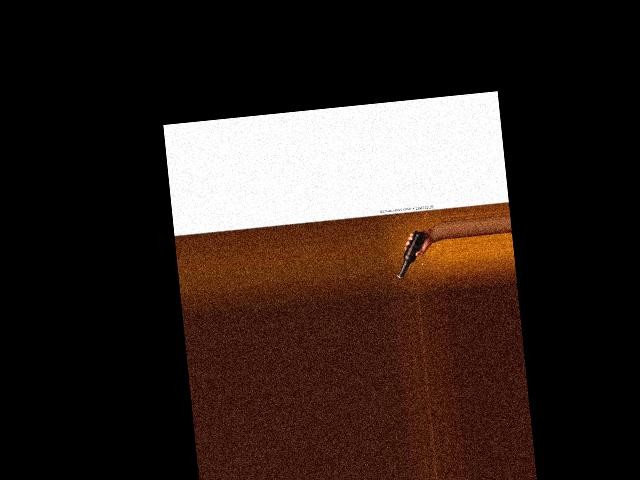beer: (392, 229, 431, 279)
